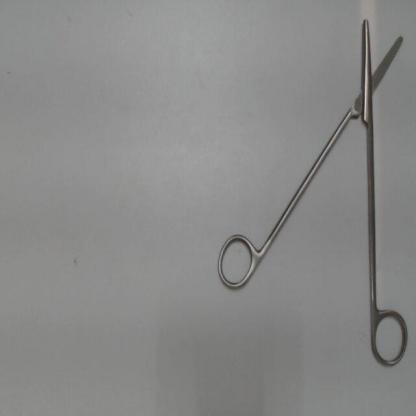9 Metzenbaum Scissors: (212, 15, 412, 375)
